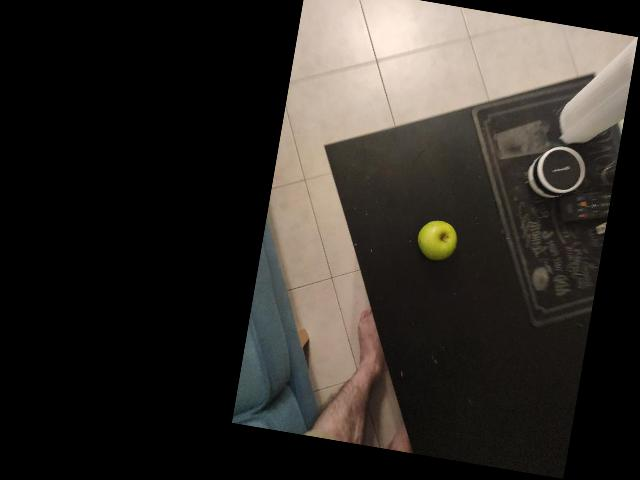apple: (355, 139, 408, 191)
